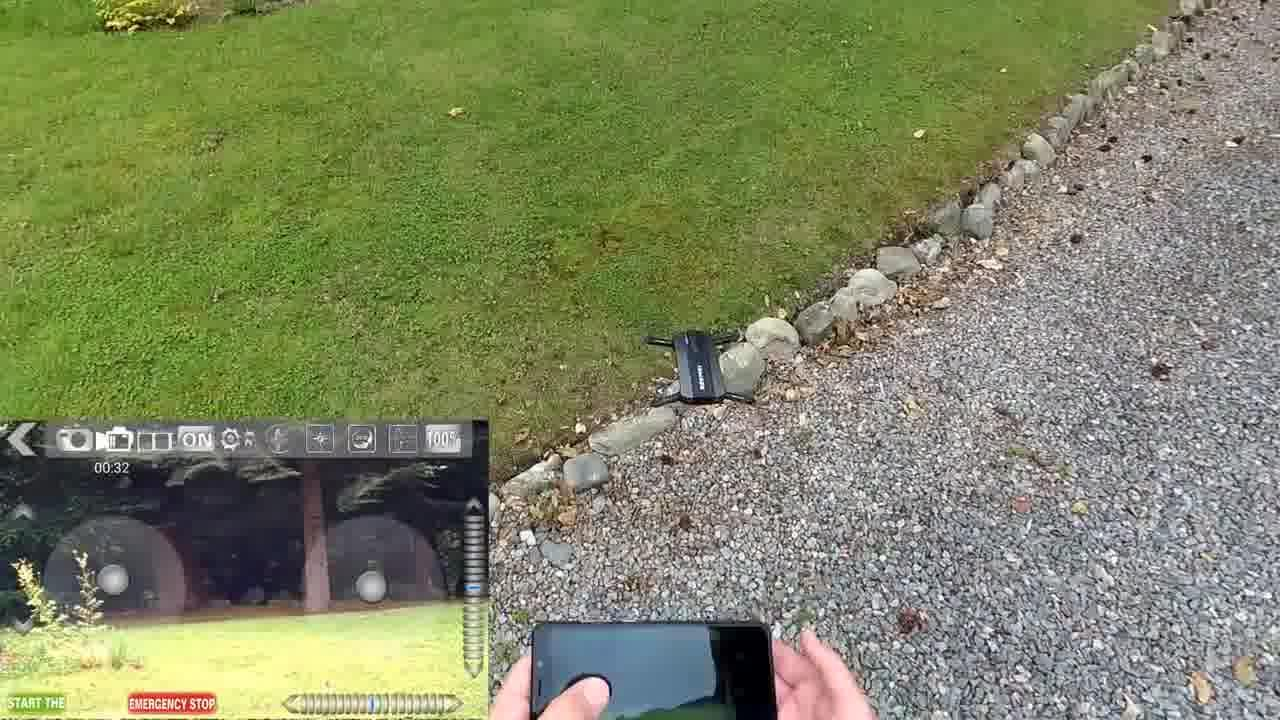drone: (640, 312, 764, 420)
